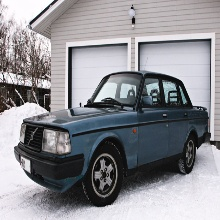no damage: (13, 70, 209, 206)
